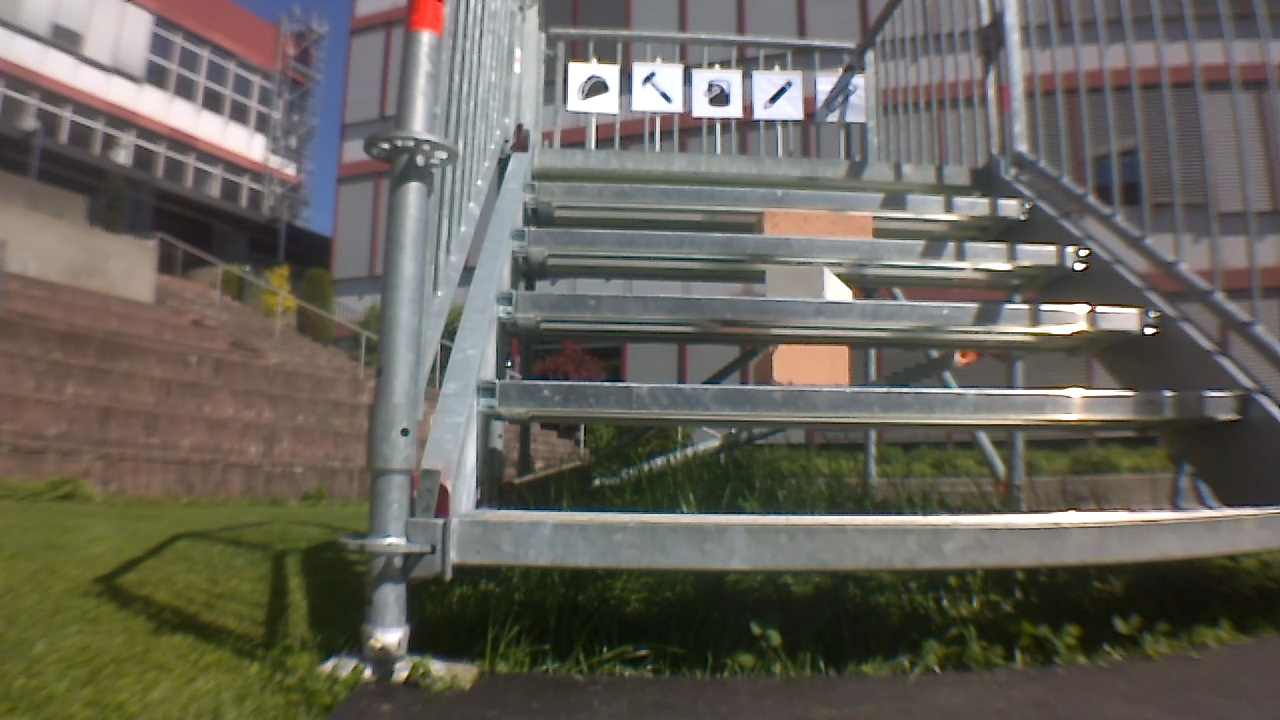brick: (749, 341, 851, 386), (761, 261, 864, 305), (754, 211, 876, 234)
bucket: (705, 74, 738, 108)
edge: (460, 503, 1280, 577), (511, 226, 1090, 272), (482, 390, 1256, 415), (498, 305, 1163, 333), (516, 185, 1035, 216), (529, 154, 994, 174)
hammer: (636, 69, 675, 105)
pencil: (759, 77, 803, 110)
ruler: (821, 82, 856, 116)
stairs: (365, 0, 1280, 682)
steps: (426, 150, 1280, 568)
taco: (573, 70, 615, 103)
